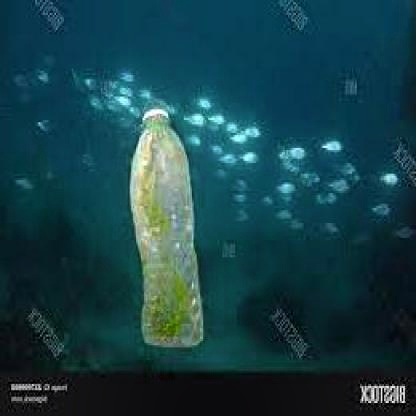pbottle: (120, 105, 214, 350)
